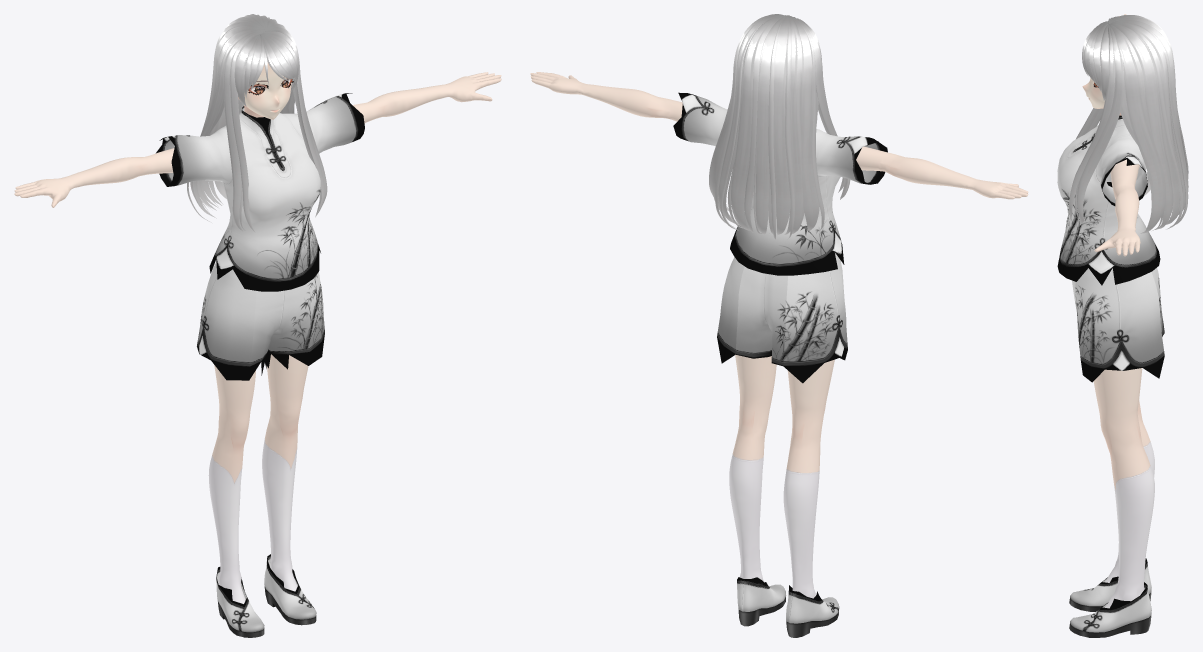
File: emiko.original.glb
3 renders of one model, left to right at view 1: azimuth 30°, elevation 25°; view 2: azimuth 150°, elevation 25°; view 3: azimuth 270°, elevation 25°, orthographic. The views are drawn at different scales.
Visible parts, largest first — view 1: Body.002, Hair, Face.002; view 2: Body.002, Hair; view 3: Body.002, Hair, Face.002.
Part boxes in pixels (bbox=[...]): Body.002: bbox=[14, 72, 501, 637]; Hair: bbox=[187, 14, 327, 231]; Face.002: bbox=[238, 62, 293, 119]; Body.002: bbox=[530, 72, 1028, 637]; Hair: bbox=[709, 14, 850, 239]; Body.002: bbox=[1057, 14, 1164, 637]; Hair: bbox=[1069, 15, 1188, 233]; Face.002: bbox=[1082, 78, 1105, 108].
Bounding box in the file's own units: 1.42 × 1.65 × 0.3269.
Materials: 14 (14 with a texture image).
